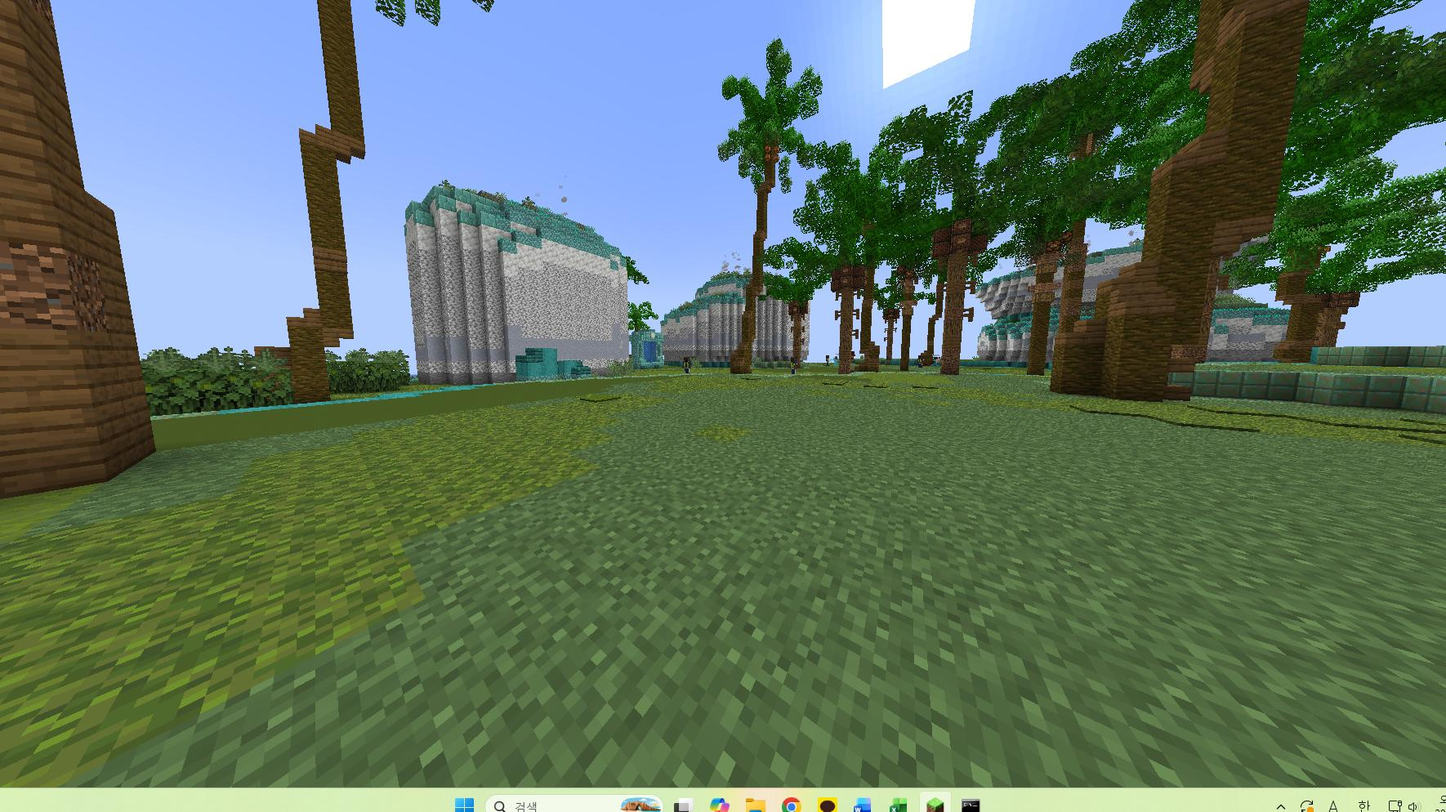Guardian: (682, 356, 690, 373), (790, 359, 797, 374)
